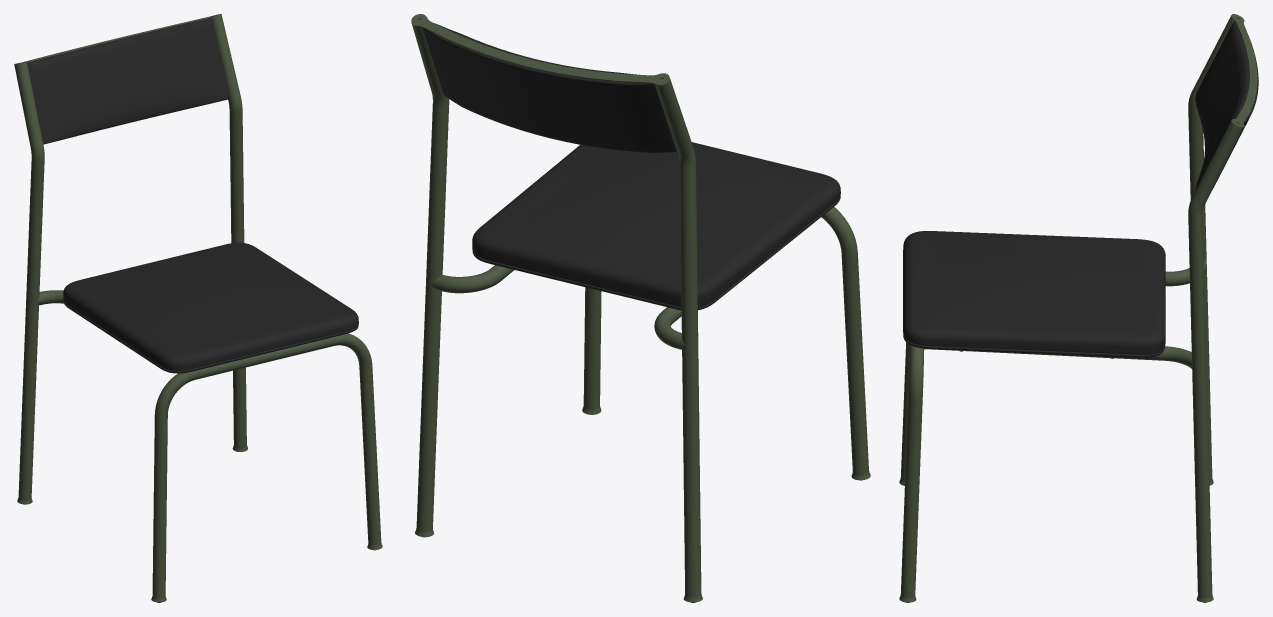
Rendered from chair-ugol.glb.
The picture shows the model from 3 angles, left to right: view 1: azimuth 30°, elevation 25°; view 2: azimuth 150°, elevation 25°; view 3: azimuth 270°, elevation 25°; orthographic projection. The views are drawn at different scales.
Parts seen in each view (by area): view 1: rb_chair_ugol; view 2: rb_chair_ugol; view 3: rb_chair_ugol.
Part boxes in pixels (box(x1,y1,x2,y2)): rb_chair_ugol: box(14, 14, 382, 602); rb_chair_ugol: box(411, 14, 870, 602); rb_chair_ugol: box(899, 14, 1258, 602).
Bounding box in the file's own units: 0.4439 × 0.7955 × 0.5441.
